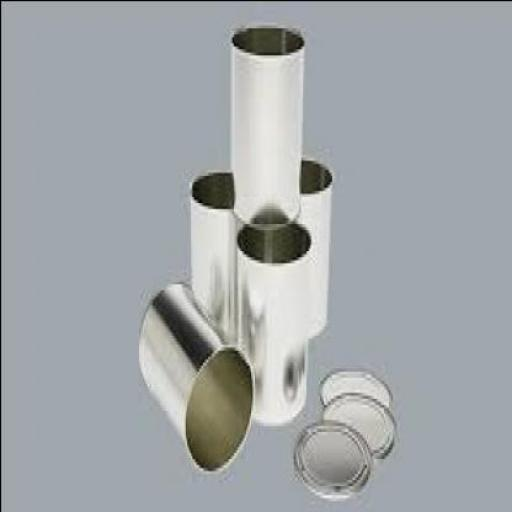metal: (134, 278, 250, 470), (233, 220, 309, 428), (228, 21, 302, 226), (188, 168, 233, 353), (291, 418, 369, 494), (298, 160, 330, 337), (317, 388, 393, 455), (317, 368, 388, 416)
